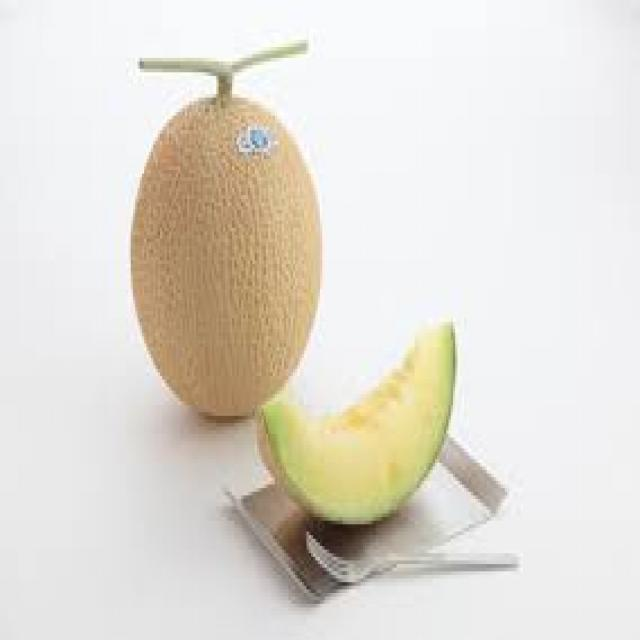melon: (126, 83, 325, 423)
